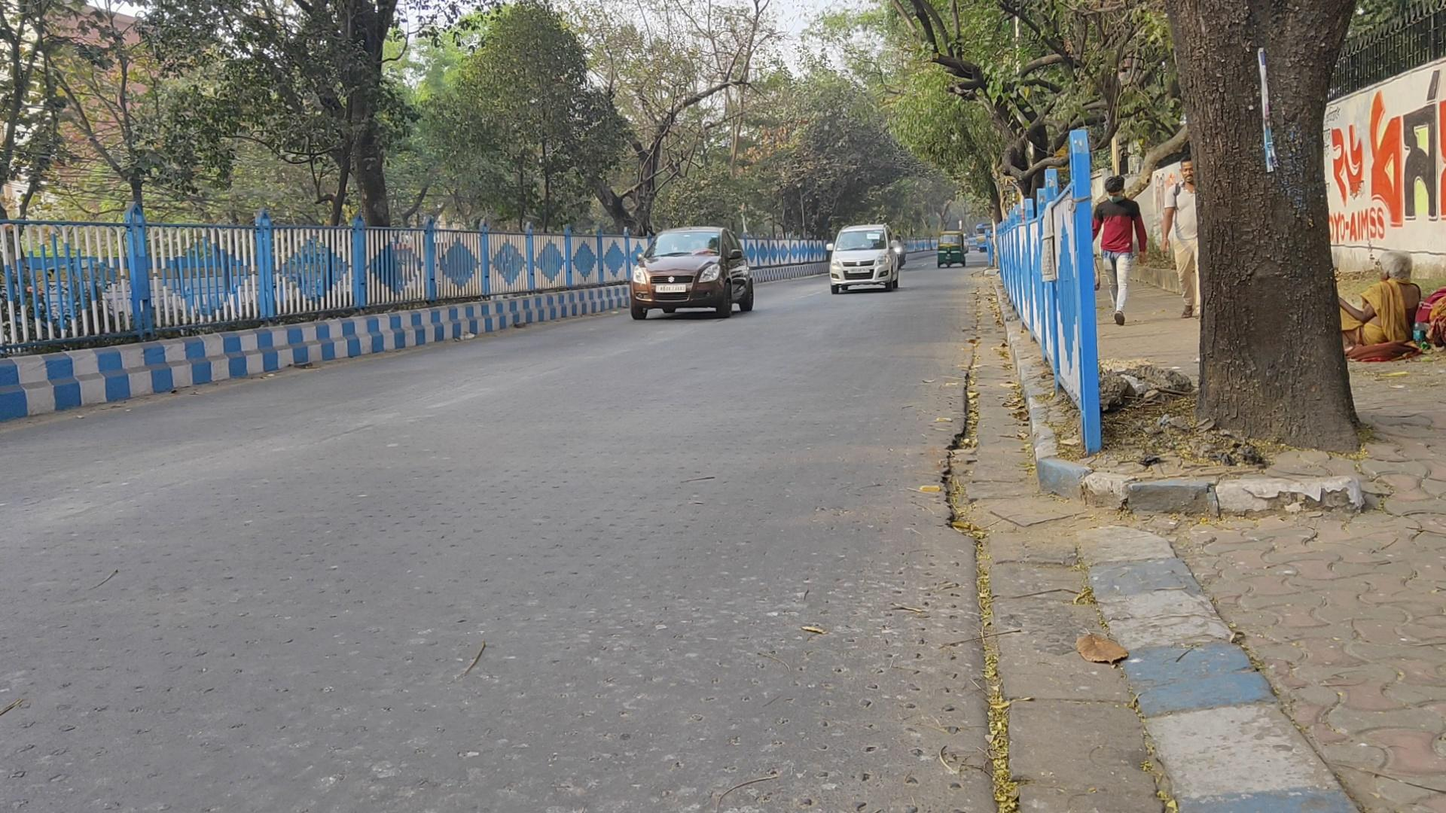Auto: (935, 229, 968, 269)
car: (630, 225, 755, 320), (826, 222, 898, 295)
